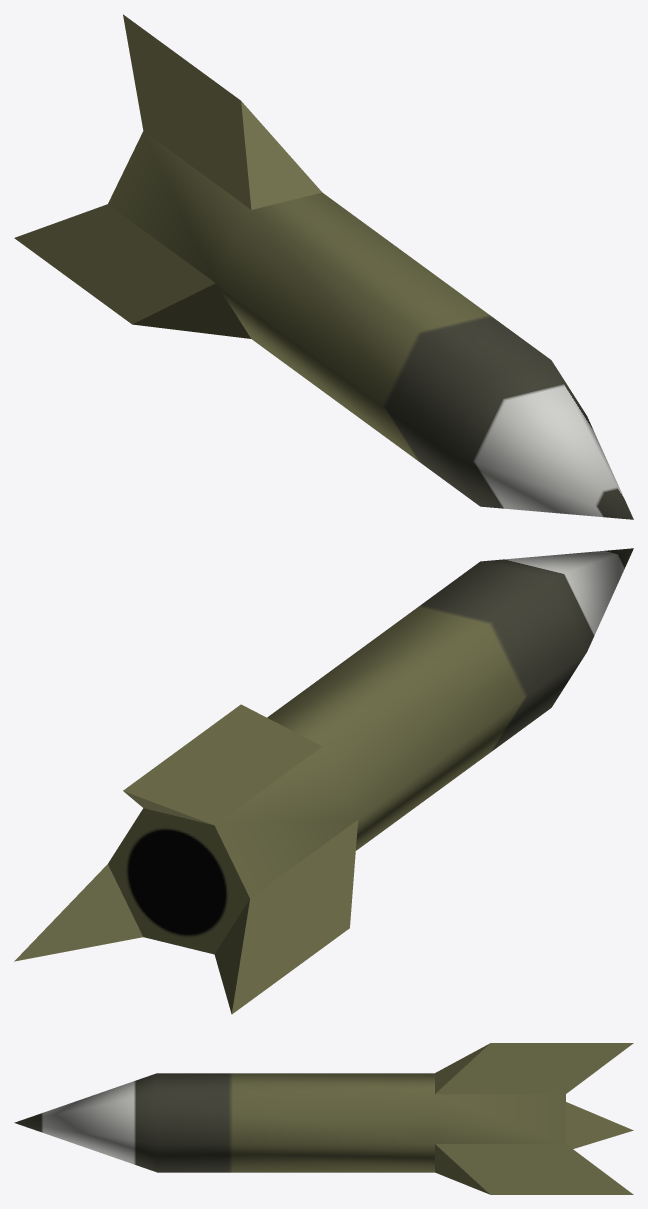
The model's file is projectile_missile.fbx.
The picture shows the model from 3 angles, top to bottom: view 1: azimuth 30°, elevation 25°; view 2: azimuth 150°, elevation 25°; view 3: azimuth 270°, elevation 25°; orthographic projection. The views are drawn at different scales.
Parts seen in each view (by area): view 1: pCylinder1; view 2: pCylinder1; view 3: pCylinder1.
Part boxes in pixels (x1,y1,x2,y2): pCylinder1: (14, 14, 633, 519); pCylinder1: (14, 548, 633, 1014); pCylinder1: (14, 1043, 633, 1194).
Size of the model in its own units: 1.63 by 1.41 by 6.64.
Materials: 1 (1 with a texture image).
